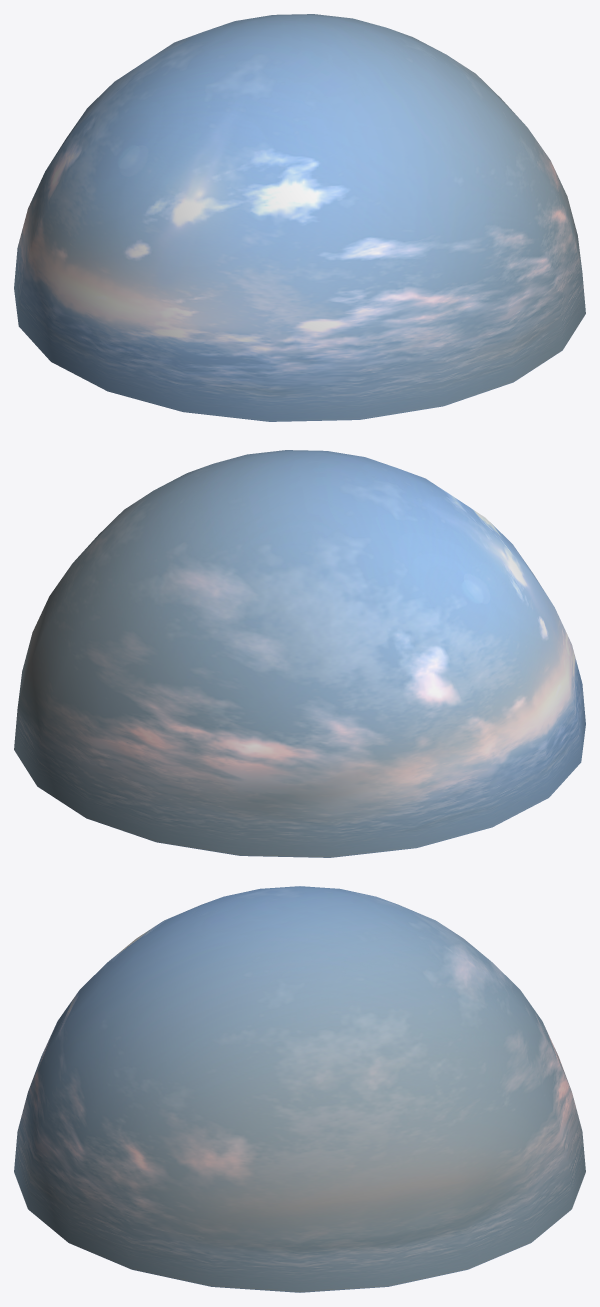
File: skyl.obj
3 views of the same model, one above another, from view 1: azimuth 30°, elevation 25°; view 2: azimuth 150°, elevation 25°; view 3: azimuth 270°, elevation 25° (orthographic).
Parts seen in each view (by area): view 1: pSphere1; view 2: pSphere1; view 3: pSphere1.
Part boxes in pixels (x1=…): pSphere1: x1=14, y1=14, x2=585, y2=421; pSphere1: x1=14, y1=450, x2=585, y2=857; pSphere1: x1=14, y1=886, x2=585, y2=1292.
Size of the model in its own units: 2 by 1 by 2.
